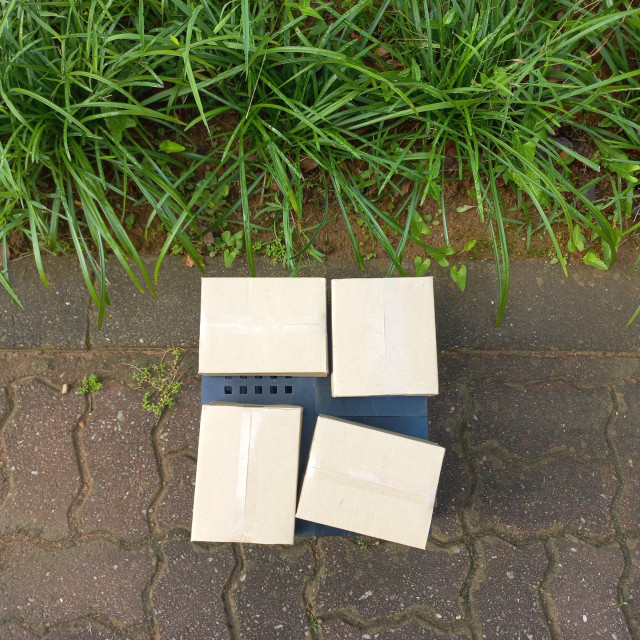box: (191, 88, 347, 225), (334, 90, 451, 239), (199, 239, 312, 365), (309, 261, 442, 365)
